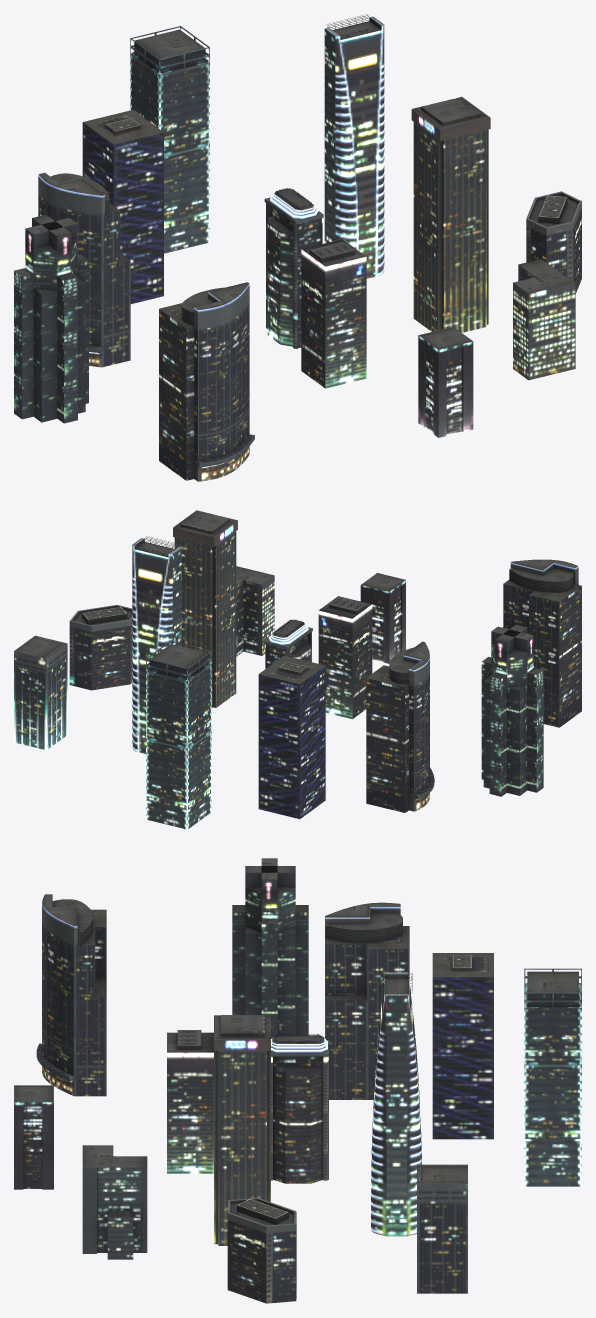
The model's file is night-skyline.glb.
3 views of the same model, one above another, from view 1: azimuth 30°, elevation 25°; view 2: azimuth 150°, elevation 25°; view 3: azimuth 270°, elevation 25° (orthographic). The views are drawn at different scales.
Visible parts, largest first — view 1: Cube.001; view 2: Cube.001; view 3: Cube.001.
Boxes of the visible parts, bbox=[...] form: Cube.001: bbox=[14, 14, 581, 481]; Cube.001: bbox=[14, 510, 581, 829]; Cube.001: bbox=[14, 858, 581, 1303].
Bounding box in the file's own units: 196 × 81.98 × 173.
Materials: 1 (1 with a texture image).
